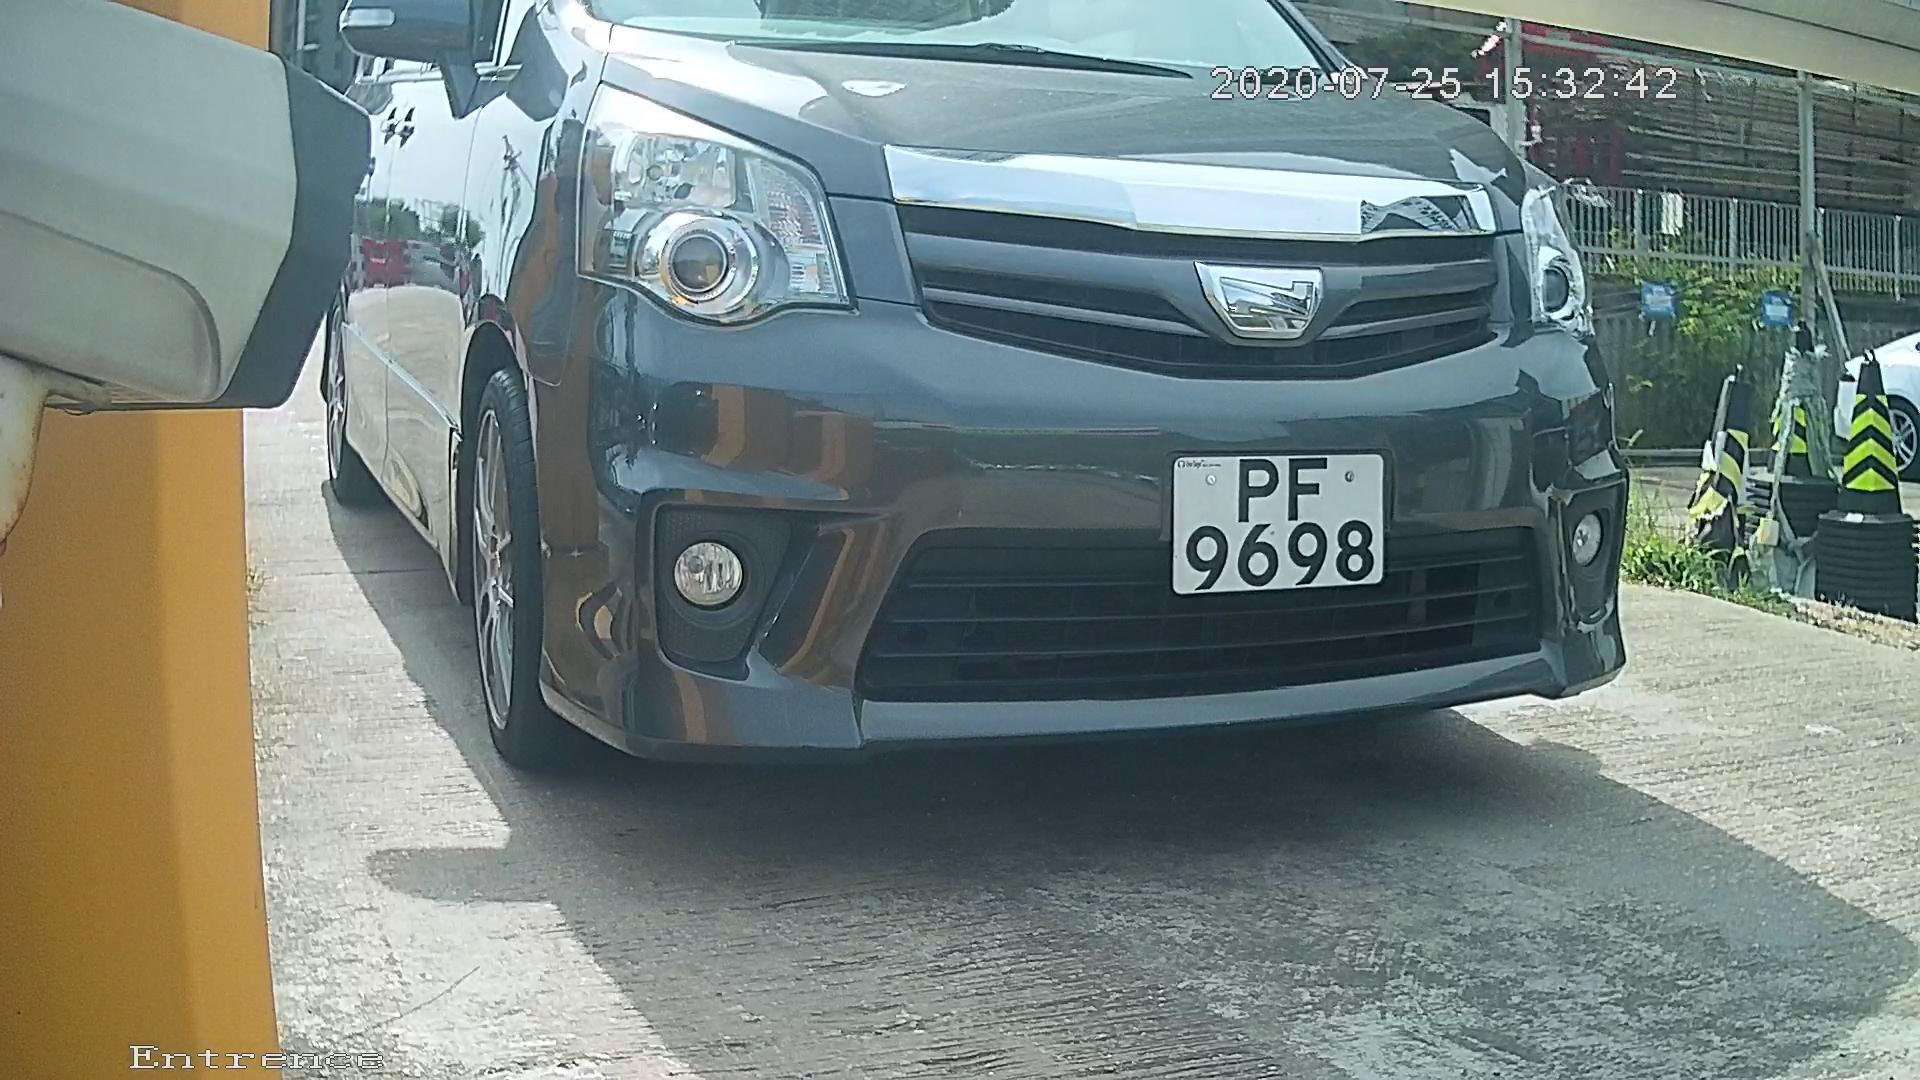Car: (223, 1, 1775, 864)
License Plate: (1149, 425, 1423, 622)
